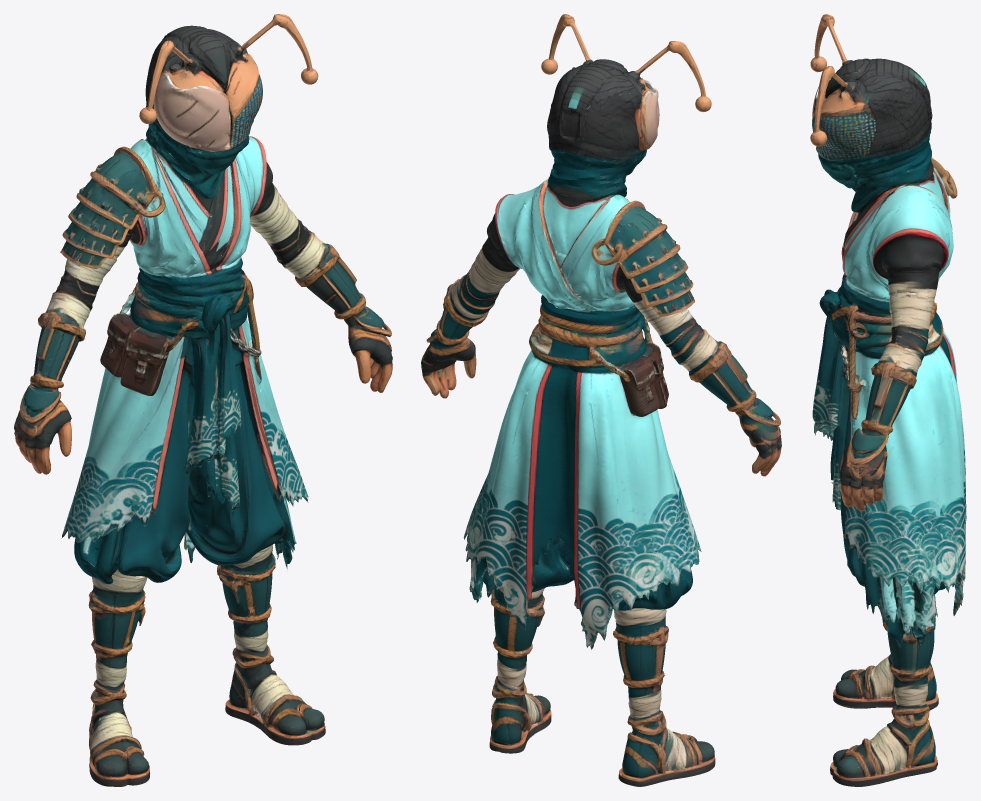
File: rebel_1555_static_source_wokou_v3_multiview.glb
3 views of the same model, side by side, from view 1: azimuth 30°, elevation 25°; view 2: azimuth 150°, elevation 25°; view 3: azimuth 270°, elevation 25° (orthographic). The views are drawn at different scales.
Parts seen in each view (by area): view 1: Mesh_0; view 2: Mesh_0; view 3: Mesh_0.
Part boxes in pixels (x1,y1,x2,y2): Mesh_0: (14, 14, 392, 786); Mesh_0: (421, 14, 781, 786); Mesh_0: (810, 14, 966, 786).
Bounding box in the file's own units: 0.9883 × 1.9 × 0.3863.
Materials: 1 (1 with a texture image).
